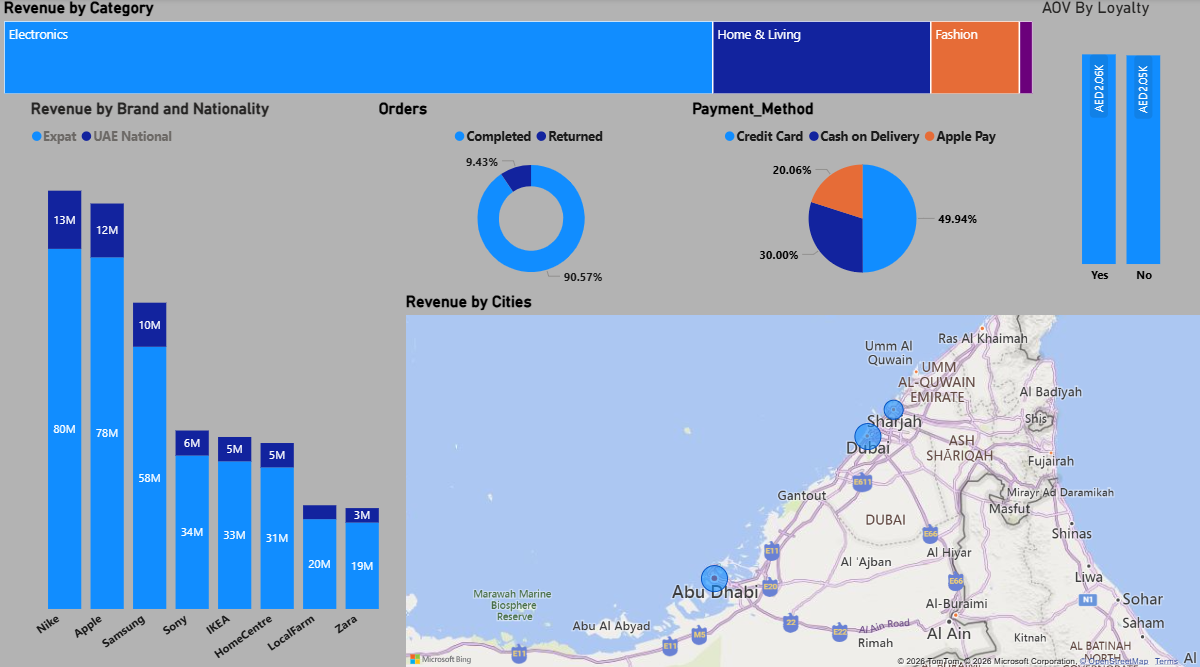

This screenshot's page, from the dashboard's own definition file:
{"tool":"powerbi","page":{"name":"Page 2","canvas":[1280,720],"ordinal":1},"visuals":[{"type":"columnChart","title":"Revenue by Brand and Nationality","fields":{"Category":["Dim_Products.Brand"],"Y":["Fact_Sales.total_gross_revenue"],"Series":["Dim_Customers.Nationality_Type"]},"box":[28.6,106.6,397.7,614],"z":0},{"type":"treemap","title":"Revenue by Category","fields":{"Group":["Dim_Products.Category"],"Values":["Fact_Sales.total_gross_revenue"]},"box":[0,0,1100.7,106.6],"z":1000},{"type":"donutChart","title":"Orders","fields":{"Category":["Fact_Sales.Order_Status"],"Y":["CountNonNull(Fact_Sales.Order_Status)"]},"box":[397.7,106.6,332.4,205.2],"z":2000},{"type":"map","fields":{"Category":["Dim_Locations.Emirate"],"Size":["Fact_Sales.total_gross_revenue"]},"box":[426.3,311.8,854.2,408.8],"z":3000},{"type":"pieChart","title":"Payment_Method","fields":{"Category":["Fact_Sales.Payment_Method"],"Y":["CountNonNull(Fact_Sales.Payment_Method)"]},"box":[730.1,106.6,370.6,205.2],"z":4000},{"type":"columnChart","title":"AOV By Loyalty","fields":{"Y":["Fact_Sales.Average_Order_Value"],"Category":["Dim_Customers.Loyalty_Member"]},"box":[1100.7,0,179.7,311.8],"z":5000}]}

Visuals, with their boxes in screenshot pixels (x1, y1, x2, y2), scaled from the page's 1280x720 canvas onto the 1200x667 screenshot:
"Revenue by Brand and Nationality" columnChart: {"x1": 27, "y1": 99, "x2": 400, "y2": 666}
"Revenue by Category" treemap: {"x1": 0, "y1": 0, "x2": 1032, "y2": 99}
"Orders" donutChart: {"x1": 373, "y1": 99, "x2": 684, "y2": 289}
map - Dim_Locations.Emirate x Fact_Sales.total_gross_revenue: {"x1": 400, "y1": 289, "x2": 1199, "y2": 666}
"Payment_Method" pieChart: {"x1": 684, "y1": 99, "x2": 1032, "y2": 289}
"AOV By Loyalty" columnChart: {"x1": 1032, "y1": 0, "x2": 1199, "y2": 289}
